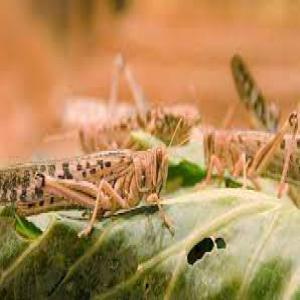locust: (1, 131, 181, 234)
